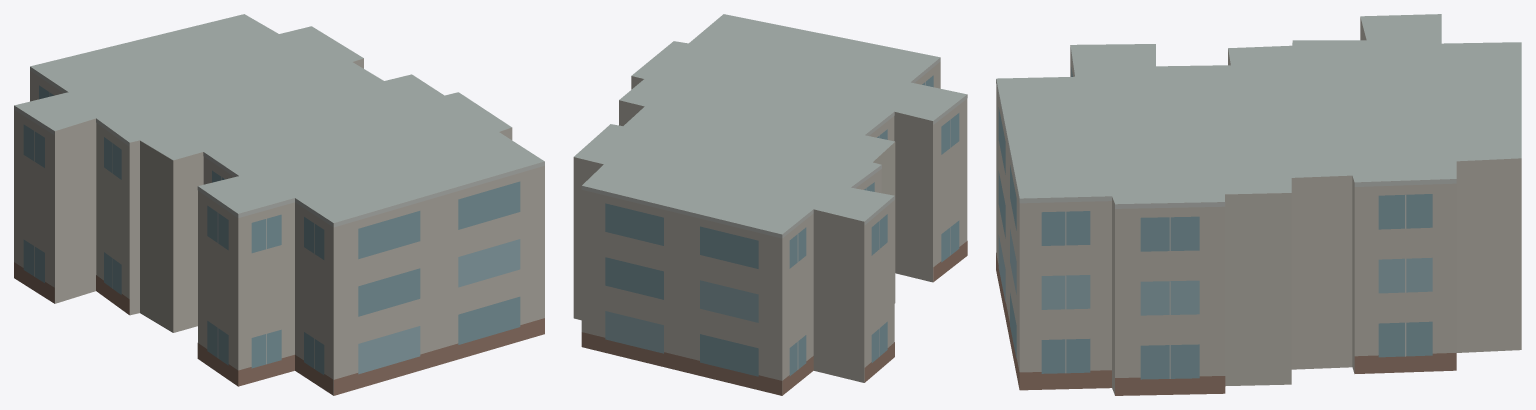
Rendered from survey-upis-32475530.glb.
3 renders of one model, left to right at view 1: azimuth 30°, elevation 25°; view 2: azimuth 150°, elevation 25°; view 3: azimuth 270°, elevation 25°, orthographic. The views are drawn at different scales.
Visible parts, largest first — view 1: survey-upis-32475530.tmp; view 2: survey-upis-32475530.tmp; view 3: survey-upis-32475530.tmp.
Part boxes in pixels (bbox=[...]): survey-upis-32475530.tmp: bbox=[14, 14, 544, 395]; survey-upis-32475530.tmp: bbox=[573, 14, 967, 395]; survey-upis-32475530.tmp: bbox=[996, 14, 1521, 395].
Bounding box in the file's own units: 20.86 × 9.8 × 24.36.
